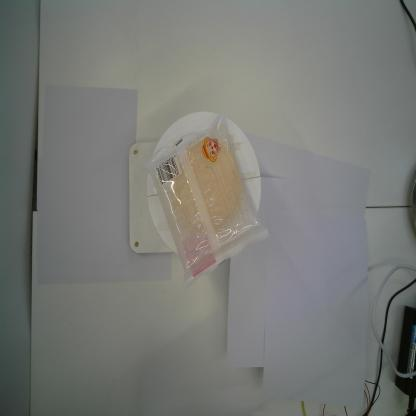Dessert: (141, 114, 270, 292)
